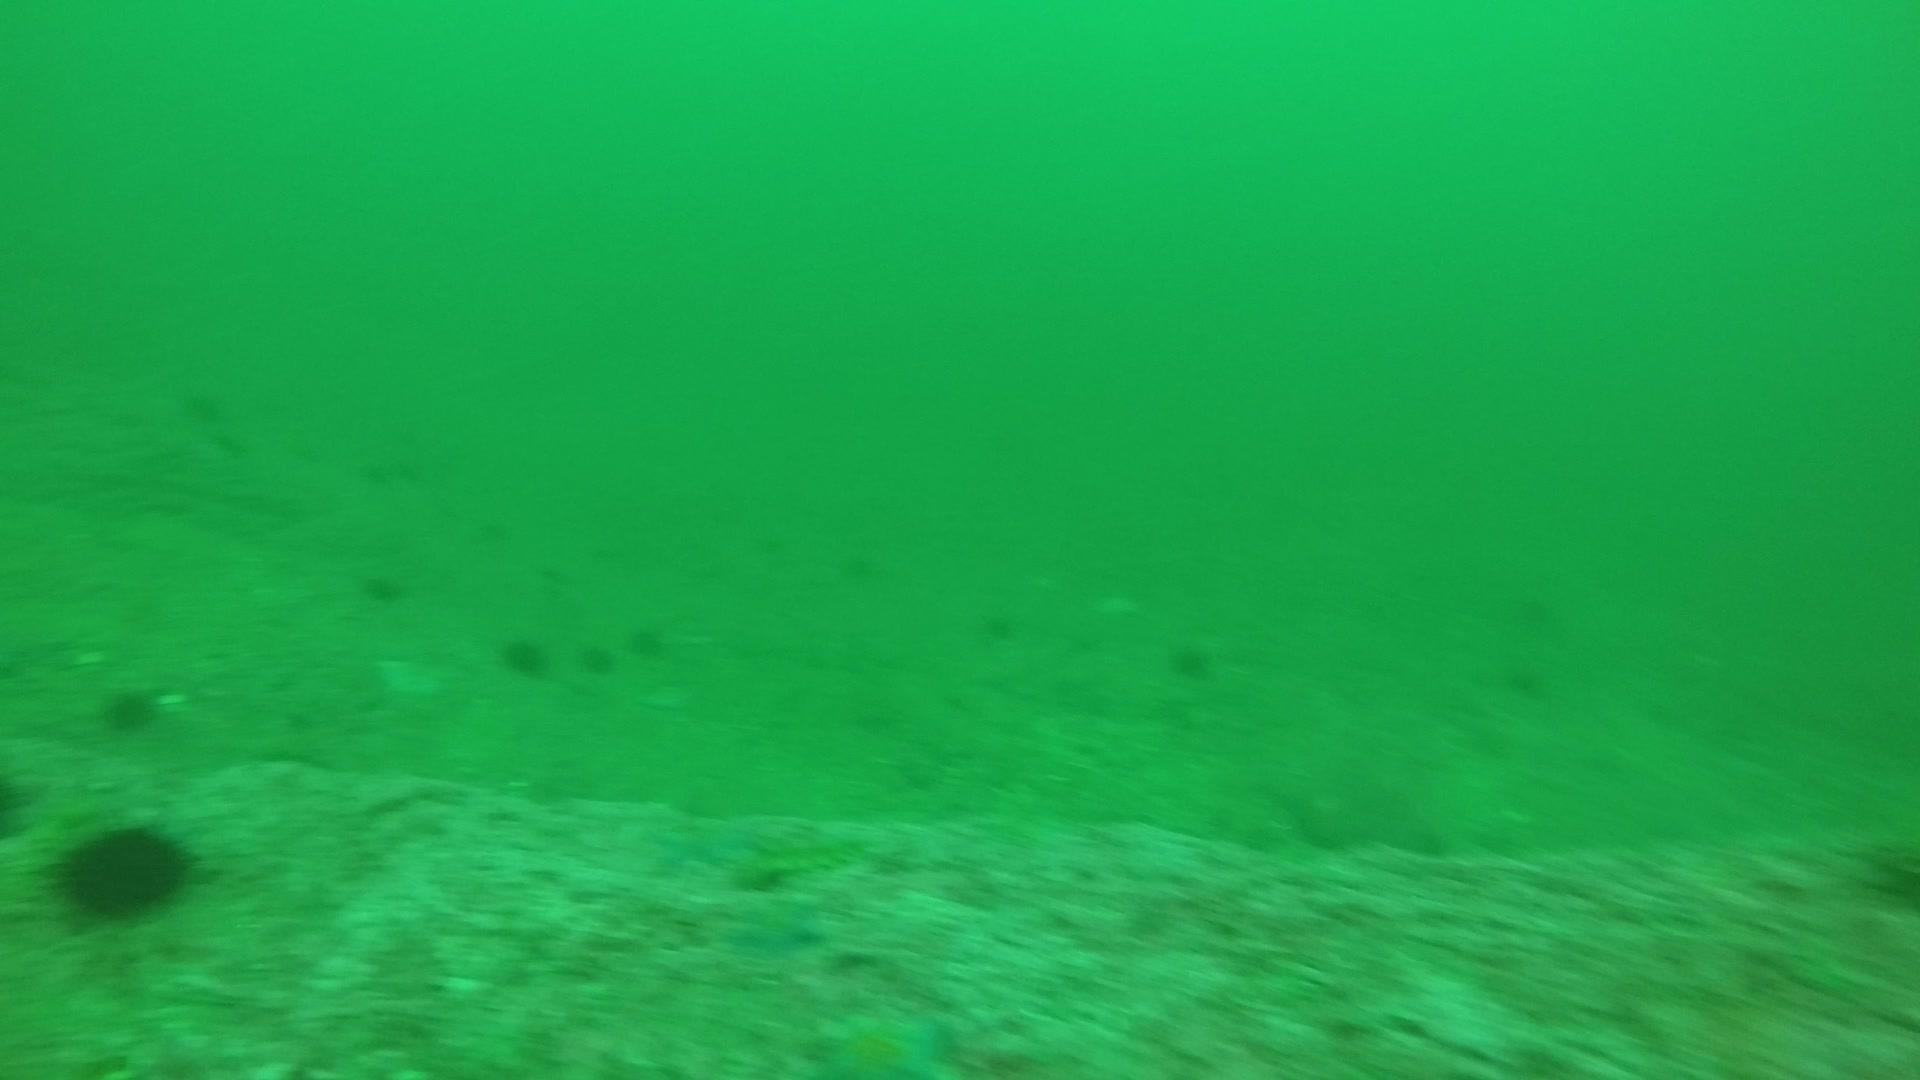echinus: (47, 816, 196, 926), (1858, 833, 1920, 913), (96, 680, 164, 738), (496, 630, 553, 680), (1164, 634, 1218, 684), (1497, 663, 1551, 713), (1514, 589, 1568, 640), (181, 386, 235, 436), (198, 415, 252, 465), (459, 505, 513, 555), (356, 563, 410, 608), (626, 618, 671, 663), (981, 605, 1023, 650), (841, 541, 884, 585), (741, 520, 783, 564), (361, 458, 404, 502), (382, 452, 425, 497), (835, 690, 877, 735), (578, 638, 617, 680)
starfish: (814, 1000, 953, 1077), (650, 810, 773, 872), (713, 895, 831, 957)
